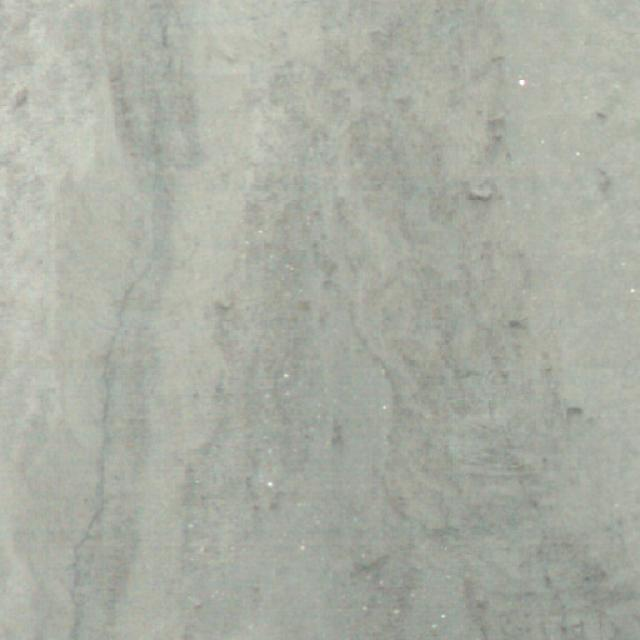Longitudinal: (47, 0, 201, 640)
